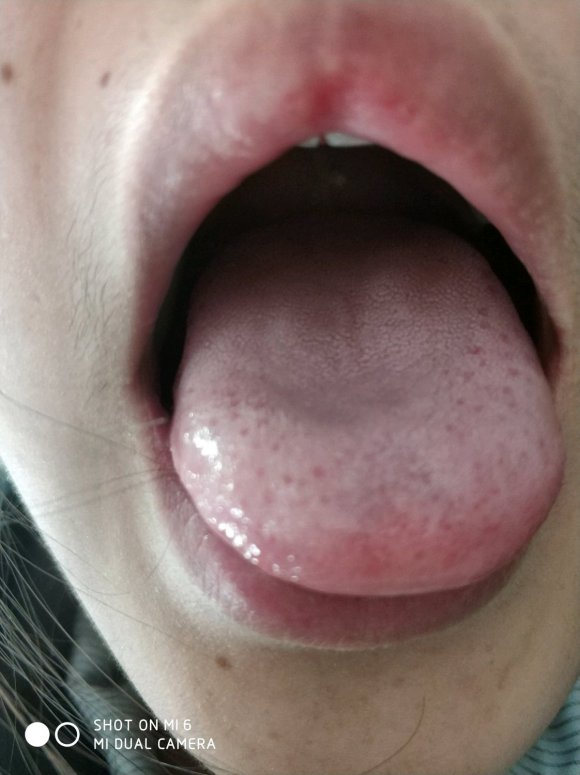baitaishe: (169, 216, 564, 595)
hongdianshe: (463, 340, 482, 360)
piweiao: (247, 340, 442, 437)
